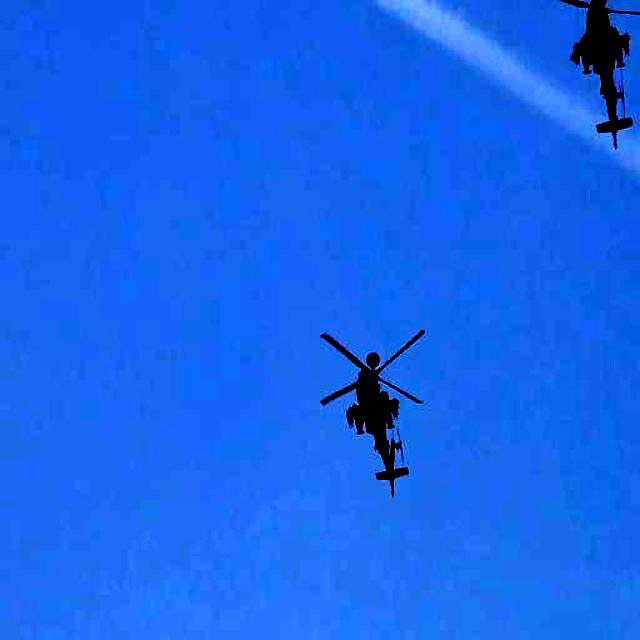drone: (308, 306, 448, 519), (529, 0, 640, 135)
